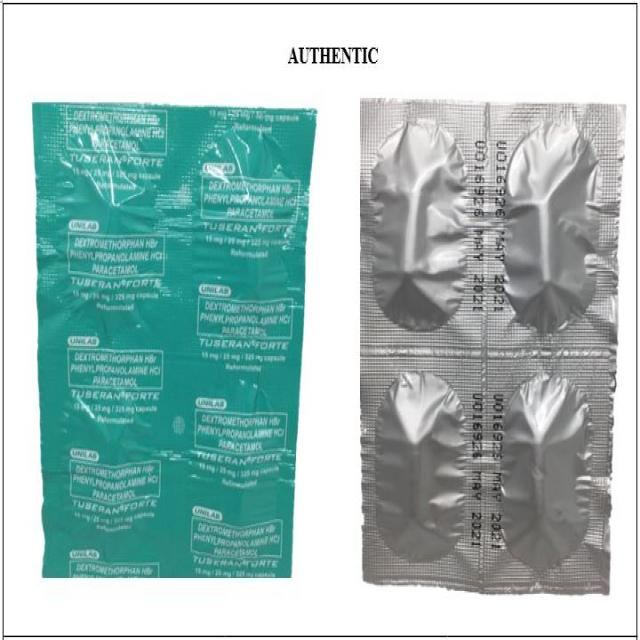authentic: (356, 85, 616, 606), (26, 88, 298, 586)
